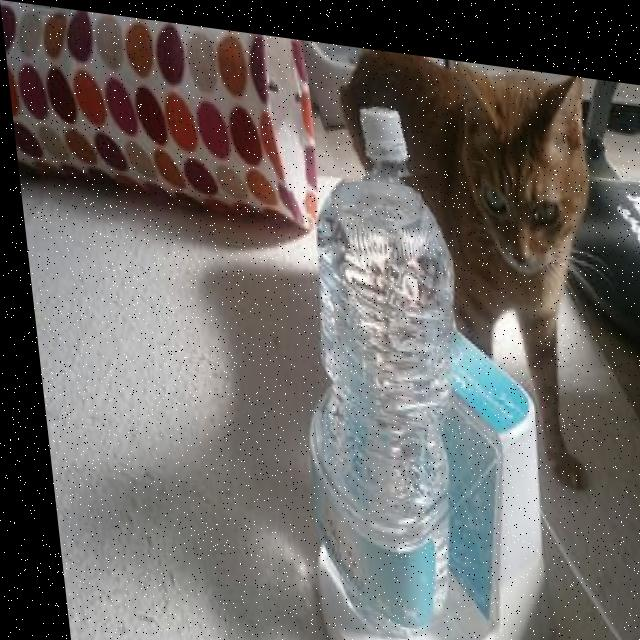plasticbottlecap: (314, 59, 435, 179)
